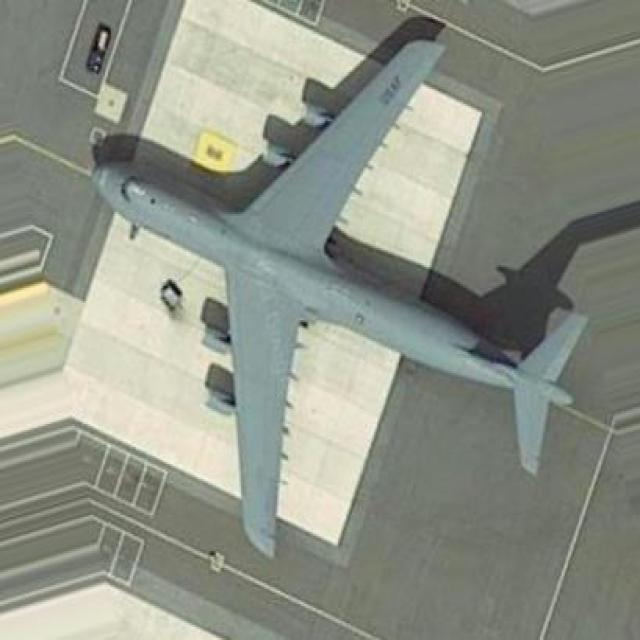C-5_TopDown: (89, 20, 596, 560)
